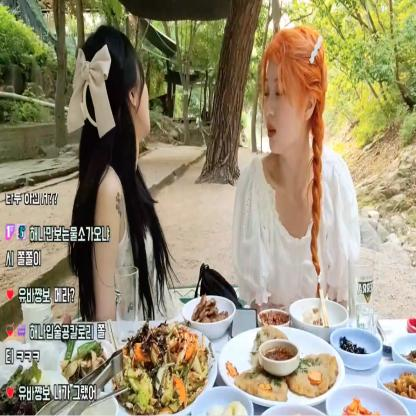streamer: (228, 26, 362, 314), (63, 20, 183, 320)
